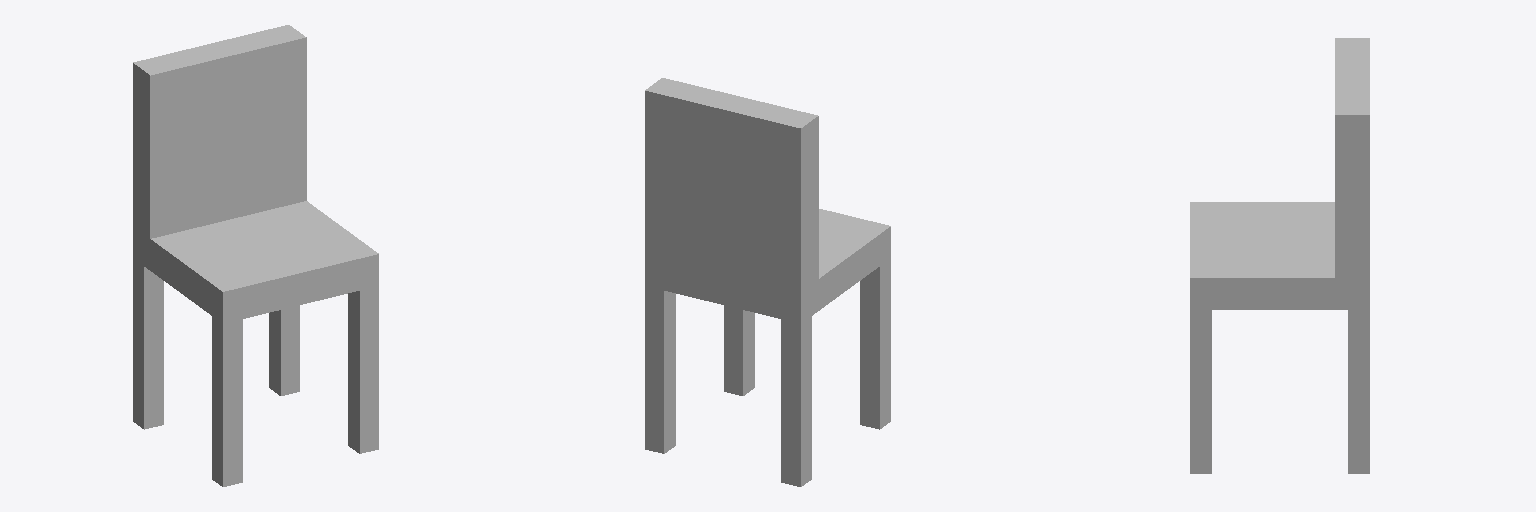
Rendered from chair.obj.
3 views of the same model, side by side, from view 1: azimuth 30°, elevation 25°; view 2: azimuth 150°, elevation 25°; view 3: azimuth 270°, elevation 25° (orthographic).
Visible parts, largest first — view 1: Cube.005, Cube, Cube.002, Cube.001, Cube.003, Cube.004; view 2: Cube.005, Cube, Cube.003, Cube.004, Cube.002, Cube.001; view 3: Cube, Cube.005, Cube.001, Cube.004.
Part boxes in pixels (left/top/right/bottom): Cube.005: left=133, top=25, right=306, bottom=238; Cube: left=133, top=201, right=378, bottom=323; Cube.002: left=212, top=316, right=242, bottom=486; Cube.001: left=348, top=286, right=378, bottom=453; Cube.003: left=133, top=259, right=163, bottom=429; Cube.004: left=269, top=305, right=299, bottom=395; Cube.005: left=645, top=78, right=818, bottom=291; Cube: left=645, top=209, right=890, bottom=323; Cube.003: left=781, top=316, right=811, bottom=486; Cube.004: left=645, top=286, right=675, bottom=453; Cube.002: left=860, top=259, right=890, bottom=429; Cube.001: left=724, top=305, right=754, bottom=395; Cube: left=1190, top=202, right=1369, bottom=309; Cube.005: left=1335, top=38, right=1369, bottom=277; Cube.001: left=1190, top=310, right=1211, bottom=473; Cube.004: left=1348, top=310, right=1369, bottom=473.
Size of the model in its own units: 2 by 4.39 by 2.